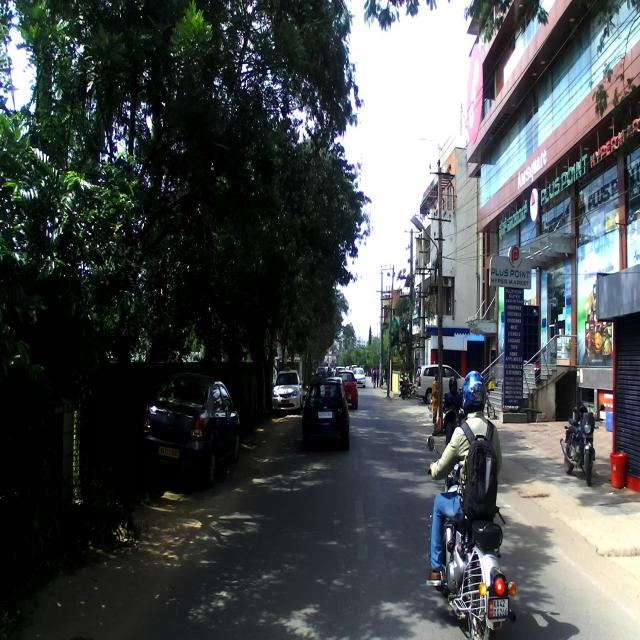Car_Ford: (300, 373, 350, 457)
Car_Toyota: (141, 372, 241, 491), (272, 368, 302, 418)
motorcycle_RoyalEnfield: (424, 432, 520, 637)
motorcycle_bajaj: (565, 399, 596, 491)
